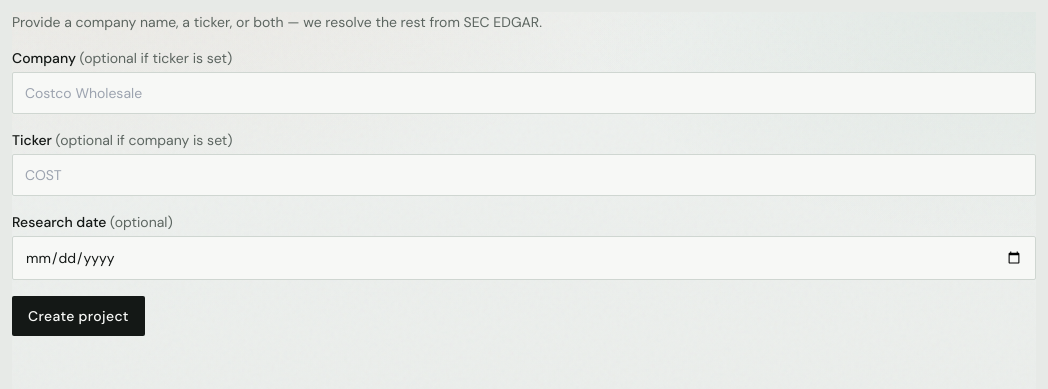
Scenario: CreateProjectForm › shows an inline error and does not navigate when createProject rejects (e.g. 422)
The image size is (1048, 389).
Type "Acme Corp" into the field labelled "Company (optional if ticker is set)". click: (524, 93)
box: [12,72,1036,114]
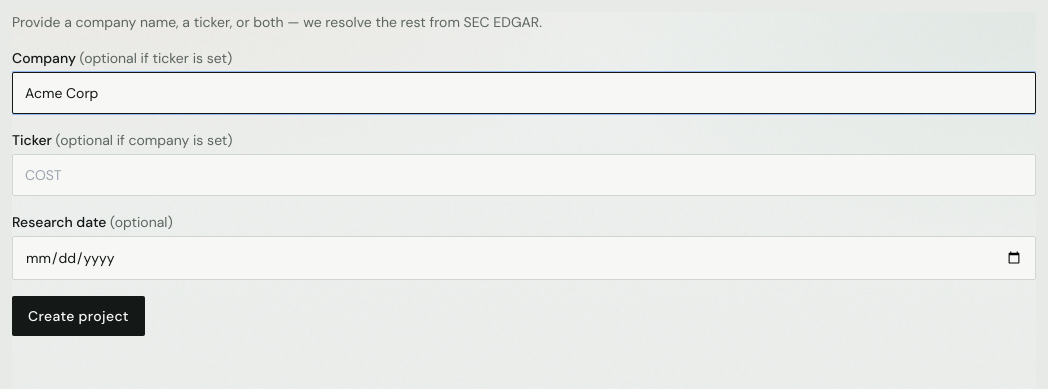
Type "ZZZZ" into the field labelled "Ticker (optional if company is set)". click: (524, 175)
box: [12,154,1036,196]
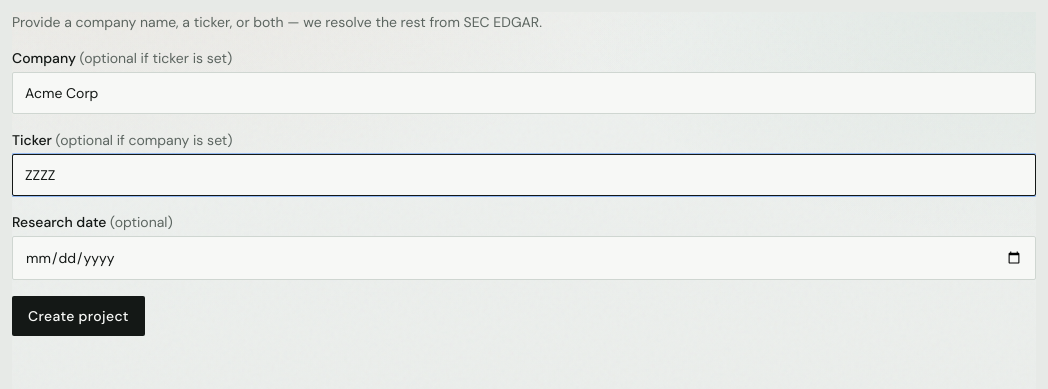
Click the button "Create project". click: click(78, 316)
box: [12,296,145,336]
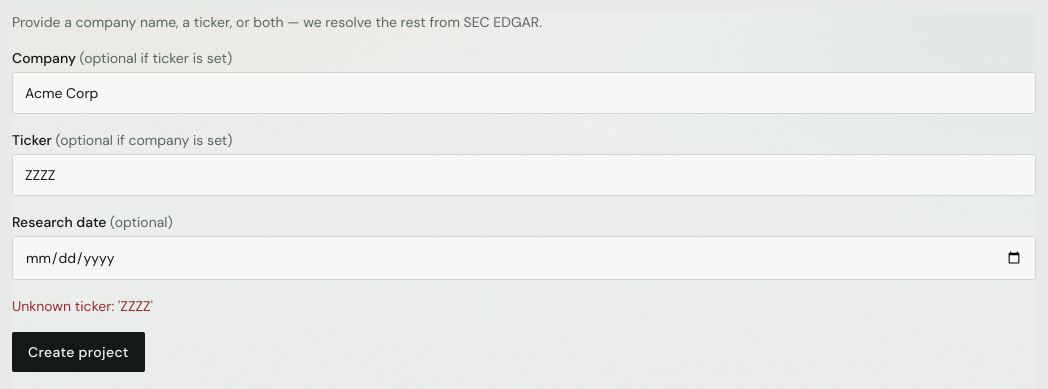
Expected: the message reads "Unknown ticker: 'ZZZZ'", [12,297,153,315]
